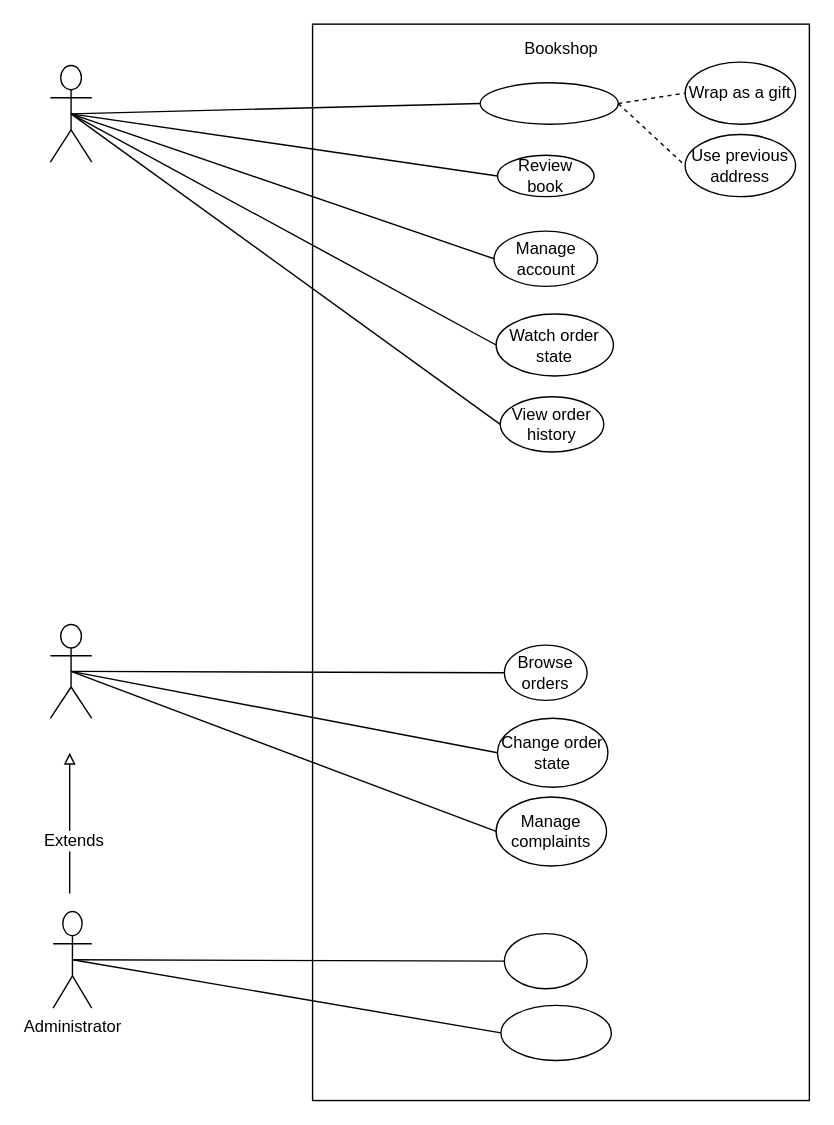
The diagram is 834 pixels wide and 1125 high, and some of its shapes have lost their labels. Here are the shapes that lost their labels. From the top down, the centre of each, then its label:
the point at 70,113: Customer
the point at 548,102: Order book
the point at 70,670: Employee
the point at 545,960: Manage users
the point at 555,1032: Manage books
